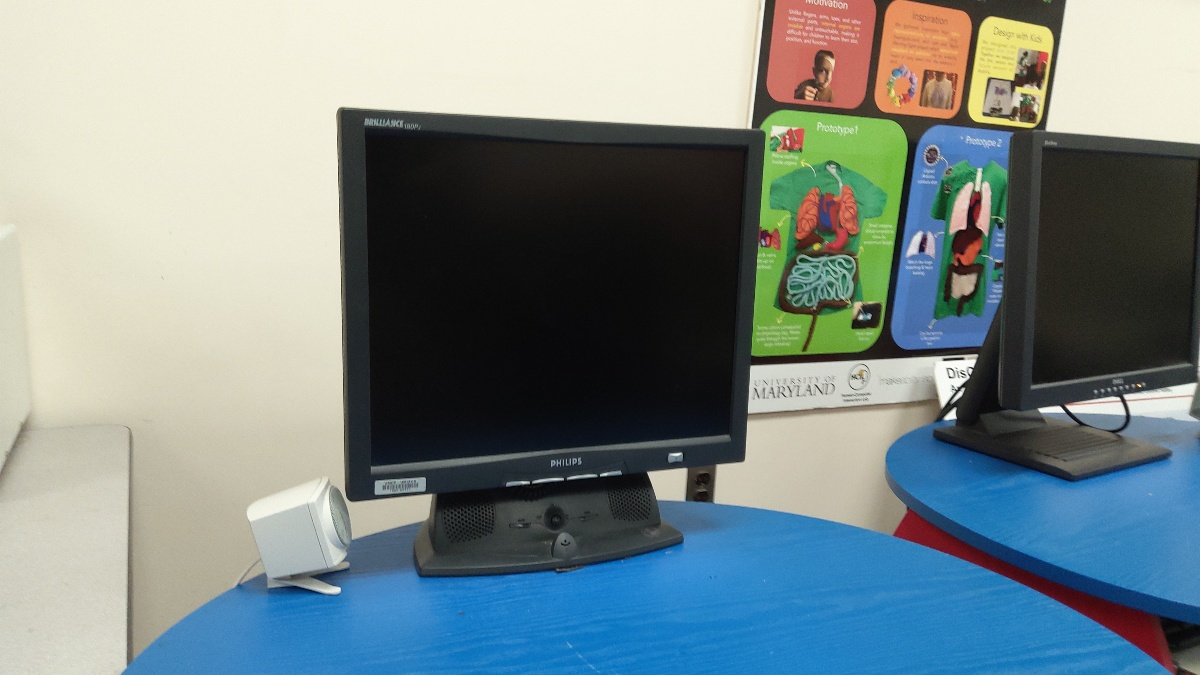monitor: (331, 100, 771, 510)
